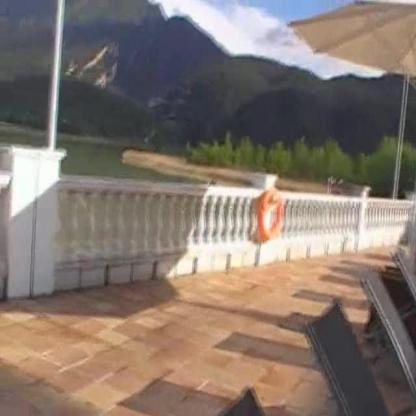other: (221, 190, 325, 258)
